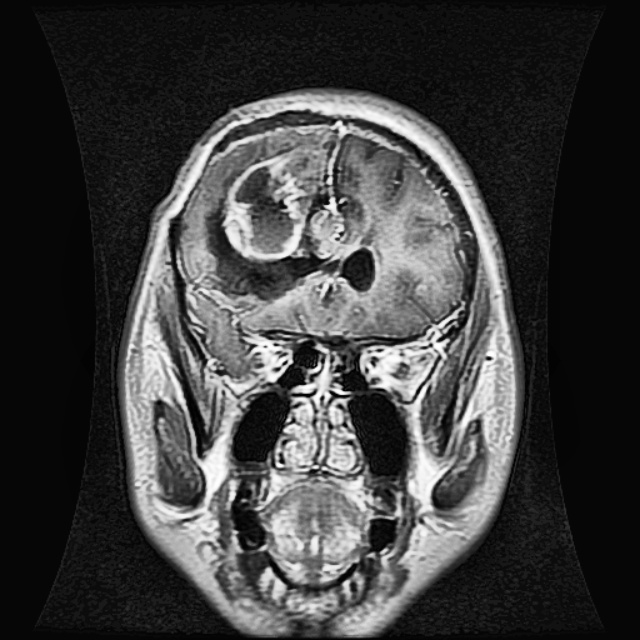Meningioma: (207, 153, 330, 298)
